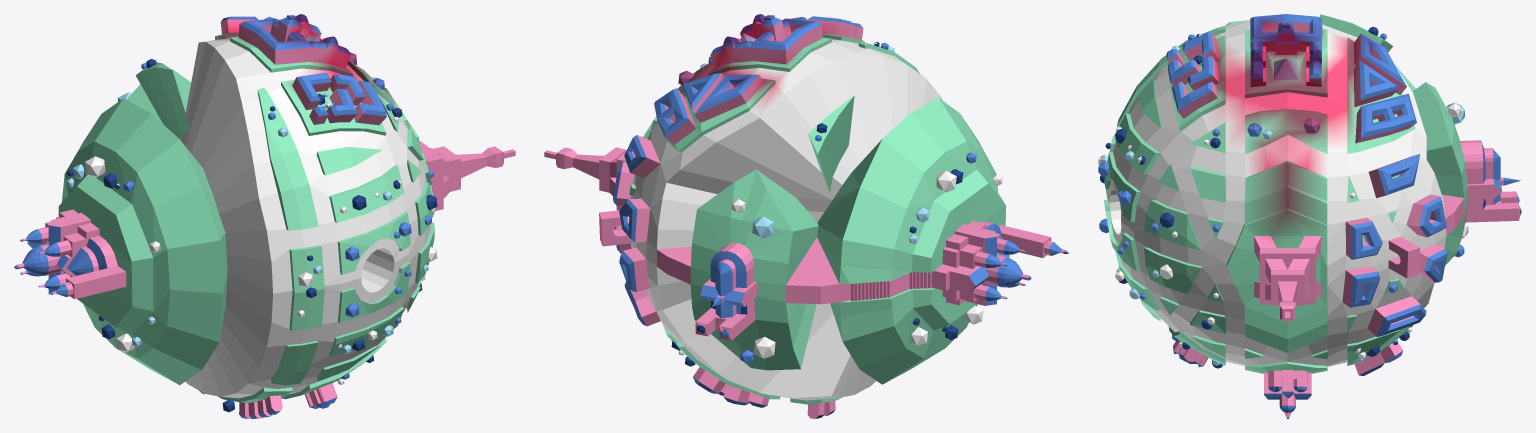
The model's file is paris.gltf.
The picture shows the model from 3 angles, left to right: view 1: azimuth 30°, elevation 25°; view 2: azimuth 150°, elevation 25°; view 3: azimuth 270°, elevation 25°; orthographic projection.
Parts seen in each view (by area): view 1: planet; view 2: planet; view 3: planet.
Boxes of the visible parts, <box> form: planet: <box>14,14,515,418</box>; planet: <box>544,14,1069,418</box>; planet: <box>1098,14,1521,418</box>.
Size of the model in its own units: 3.24 by 2.31 by 2.42.
Materials: 1 (1 with a texture image).
